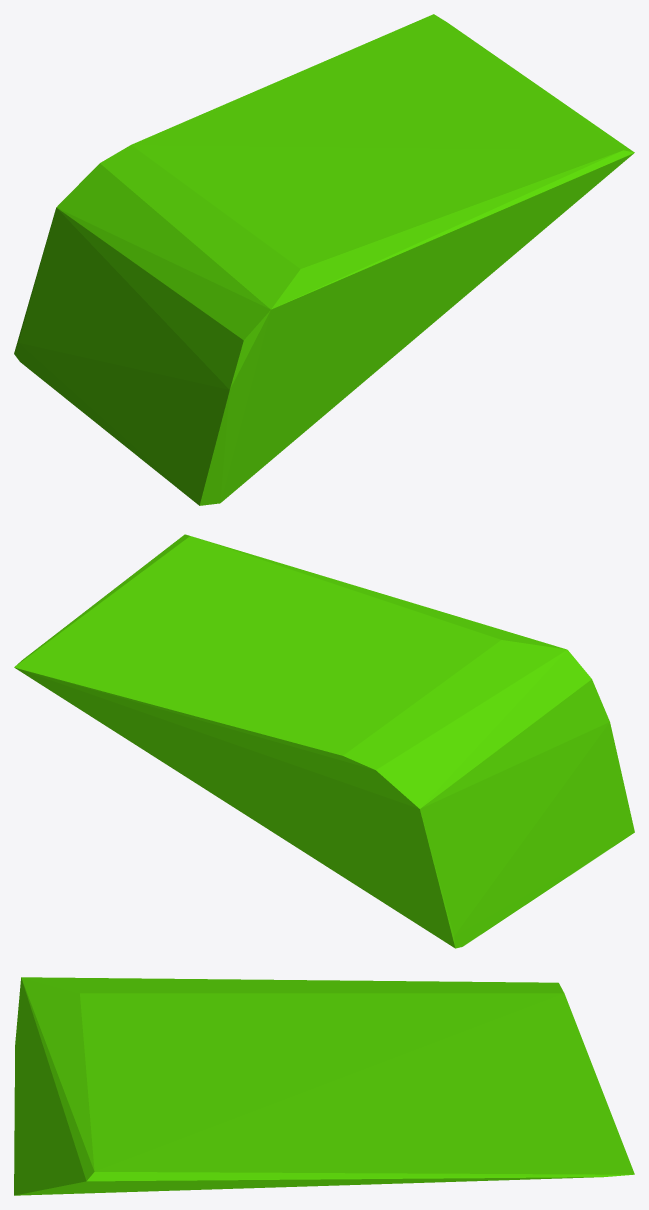
Rendered from shoulder-roll-housing-mirror_convex_piece_000.obj.
3 views of the same model, one above another, from view 1: azimuth 30°, elevation 25°; view 2: azimuth 150°, elevation 25°; view 3: azimuth 270°, elevation 25° (orthographic). The views are drawn at different scales.
Size of the model in its own units: 0.0631 by 0.0299 by 0.0518.
